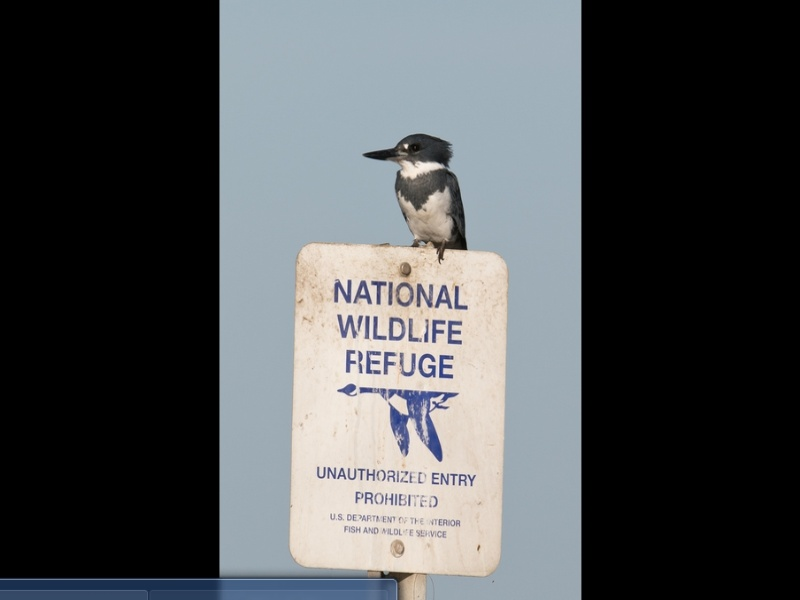kingfisher: (361, 133, 469, 265)
